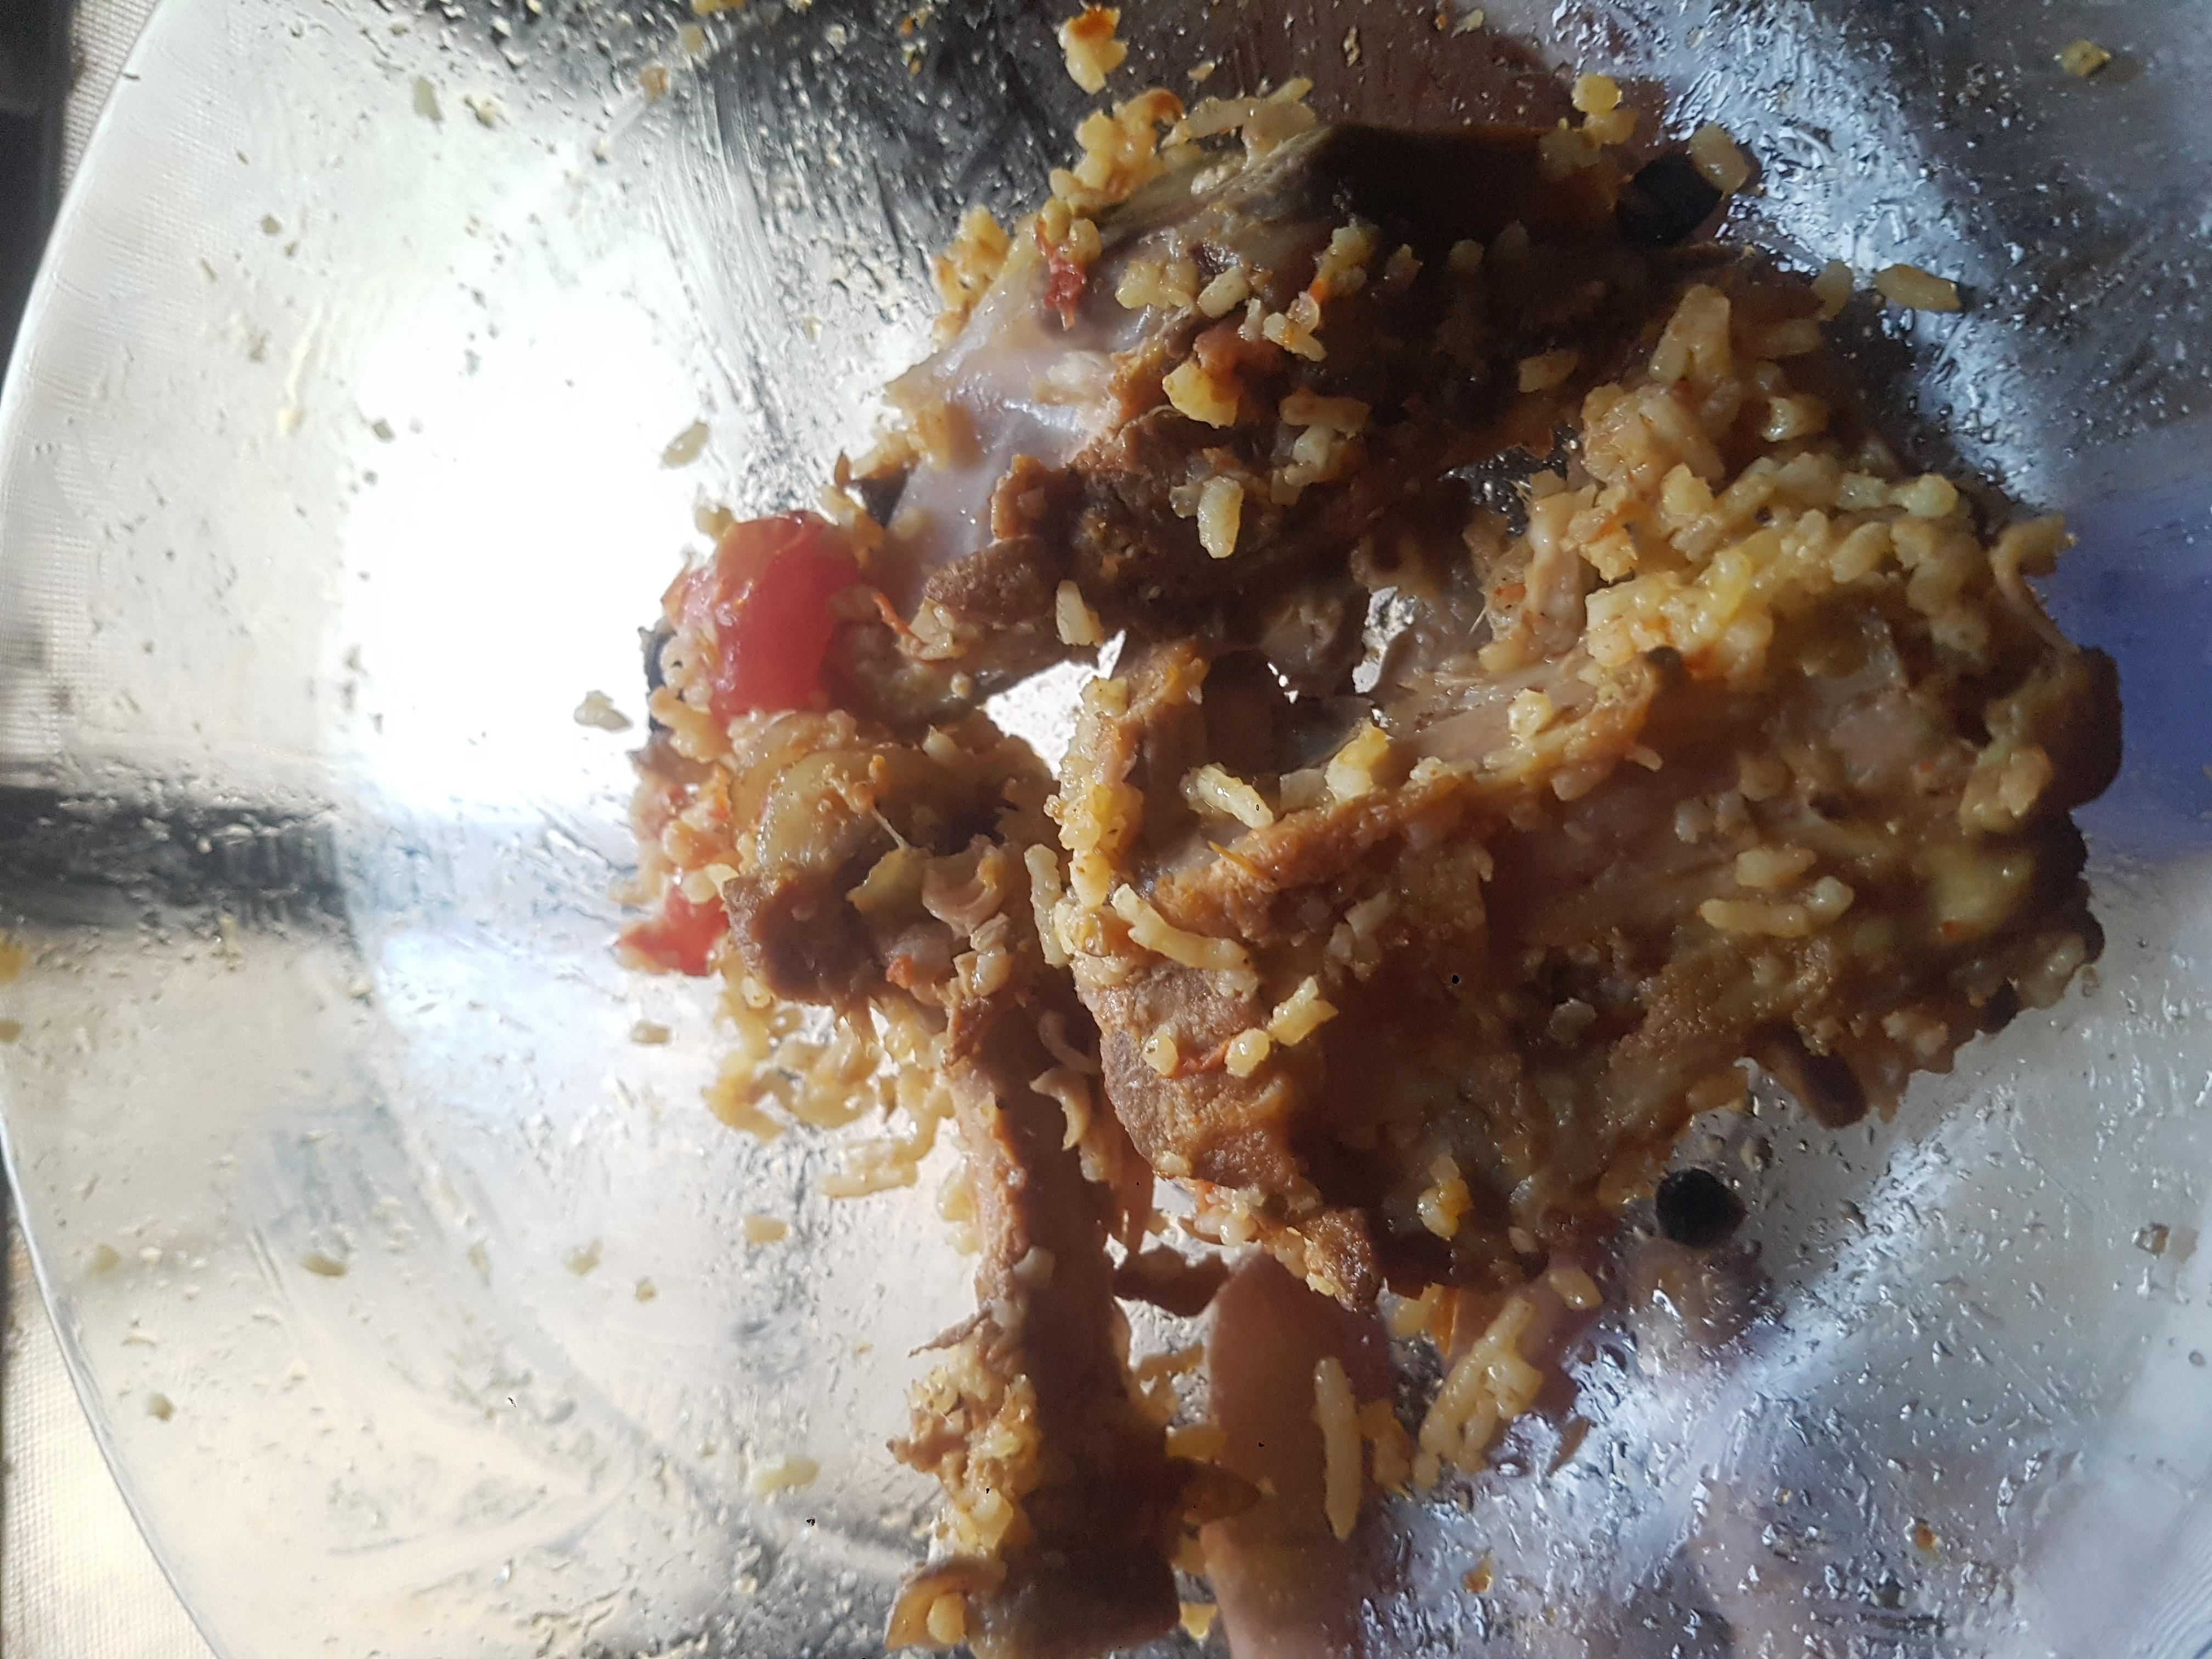organic: (33, 504, 2043, 1563)
